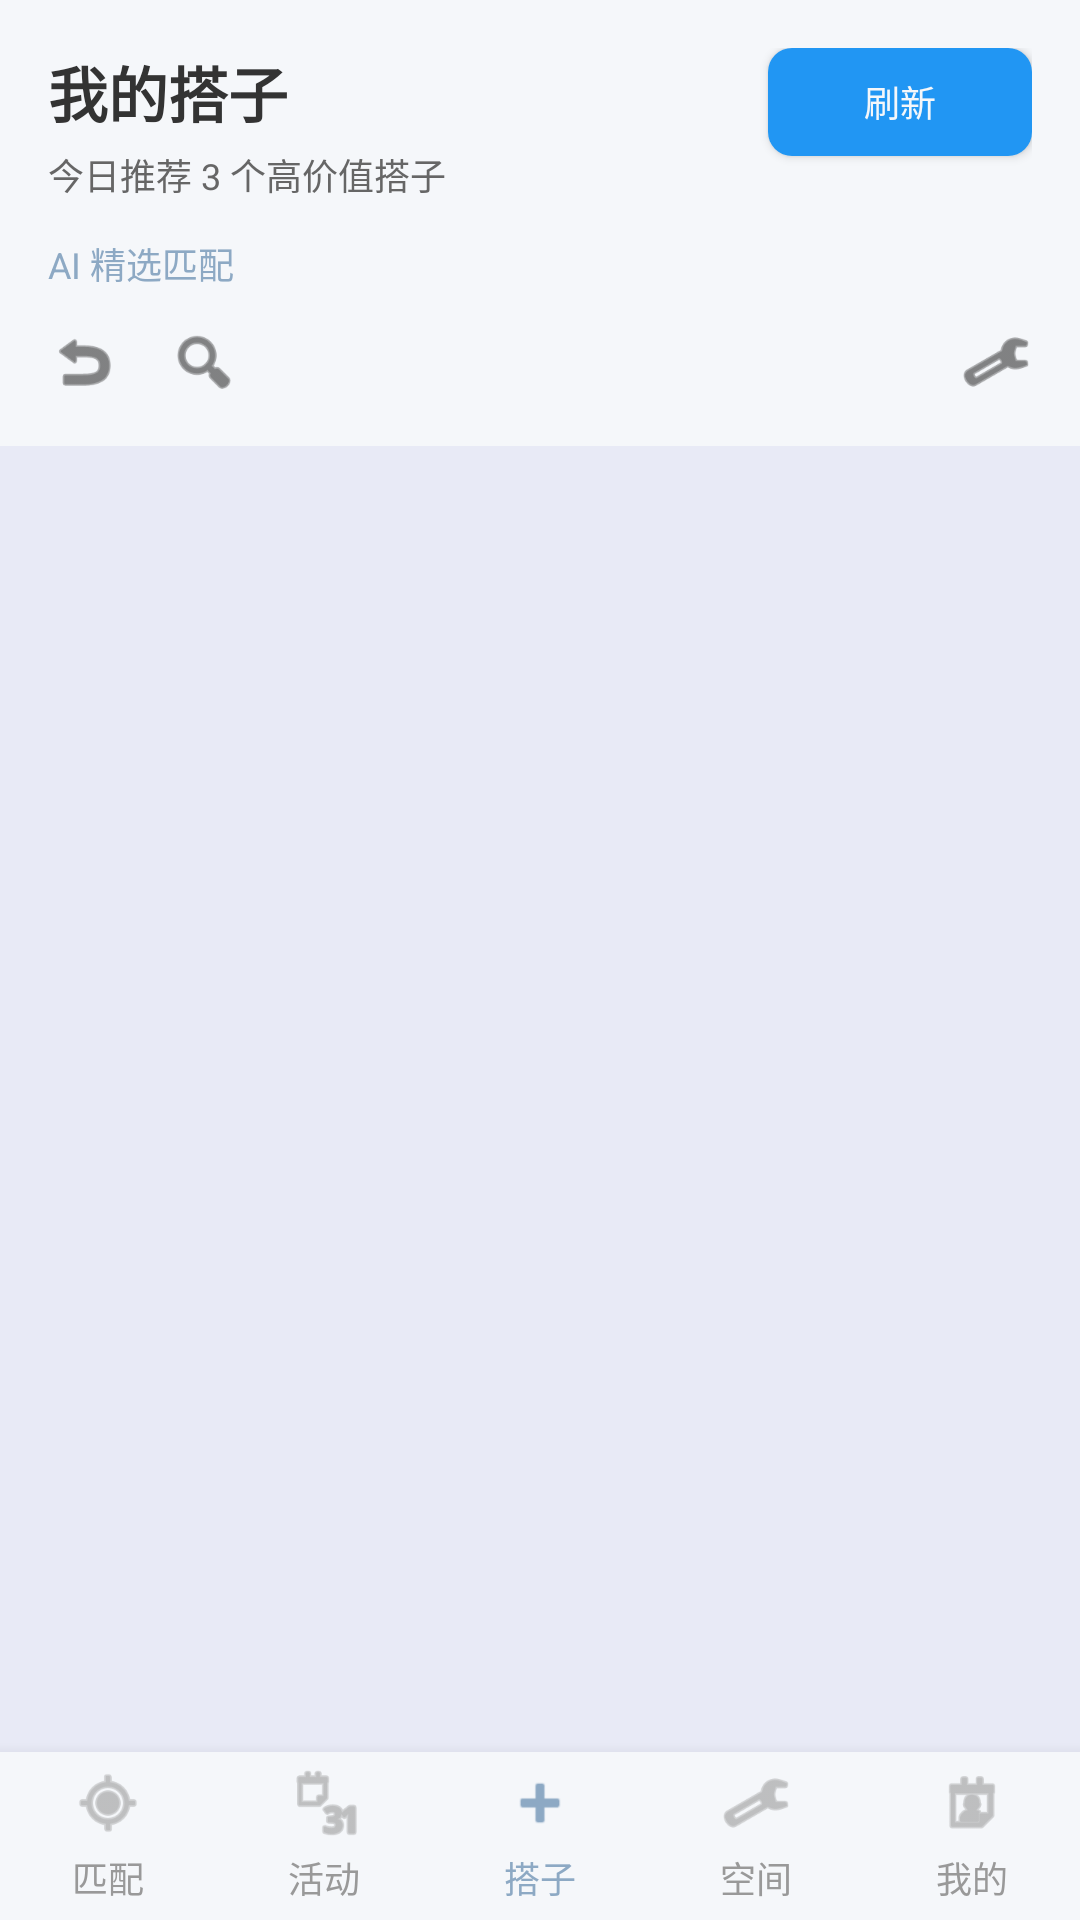

Screen size 1080px×1920px. Icon name, then its center in pixels as [x,y]:
add: [540,1803]
calendar: [972,1802]
manage: [996,362], [756,1803]
month: [326,1803]
mylocation: [108,1803]
revert: [85,362]
search: [204,362]
